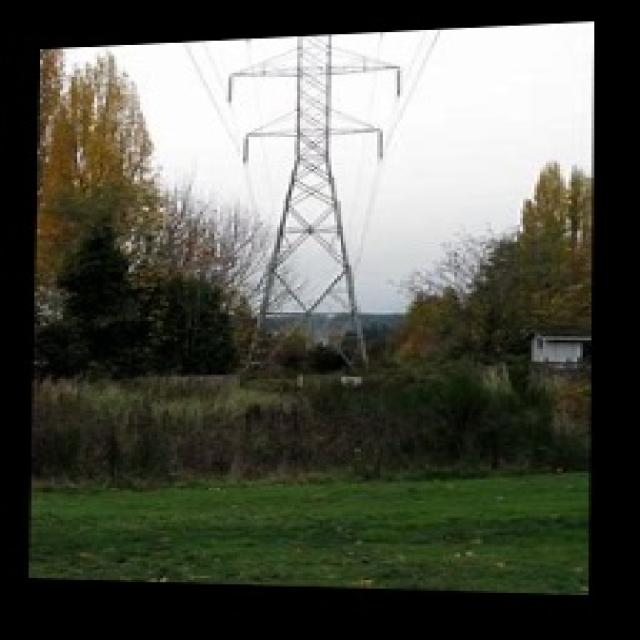utility poles: (161, 242, 305, 384), (320, 292, 469, 385)
